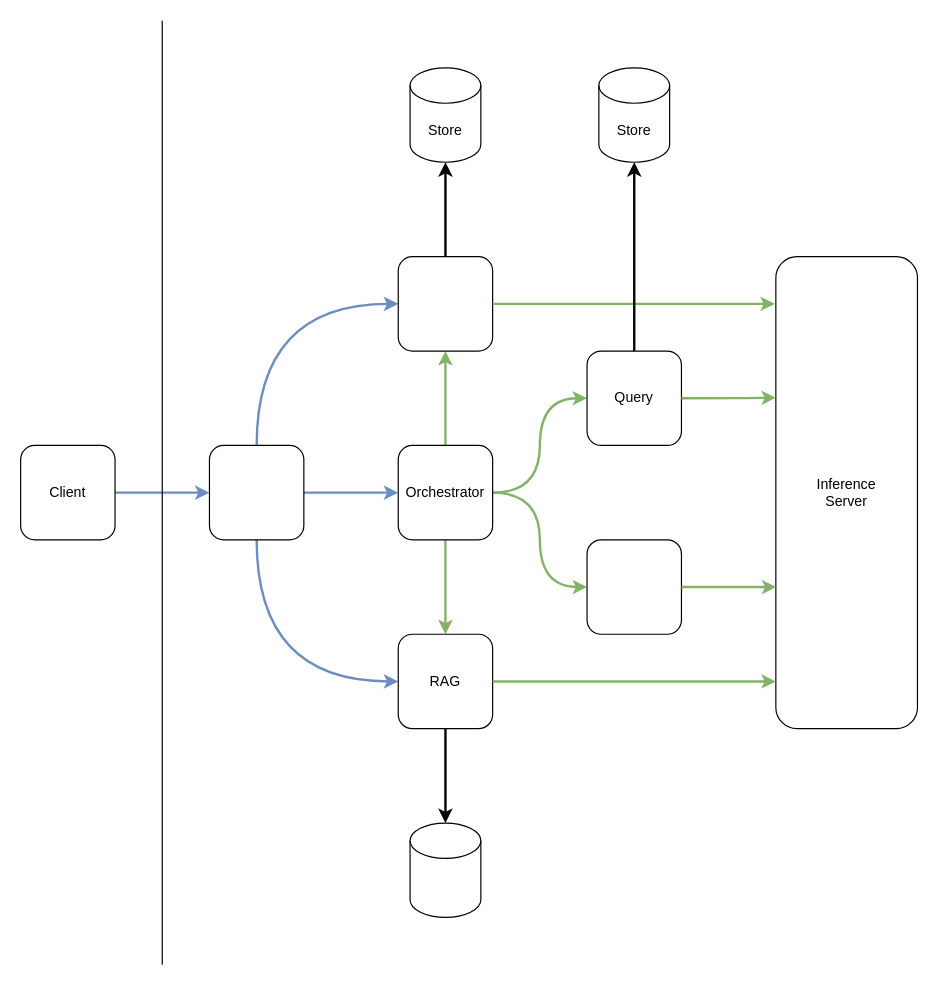
The diagram is 938 pixels wide and 986 high, and some of its shapes have lost their labels. The shapes that lost their labels are listed below. From the top down, each one's centre as x and y in pixels, then its label:
At [445,303]: "History".
At [256,492]: "API Gateway".
At [633,586]: "LLM".
At [445,869]: "Vector Store".
